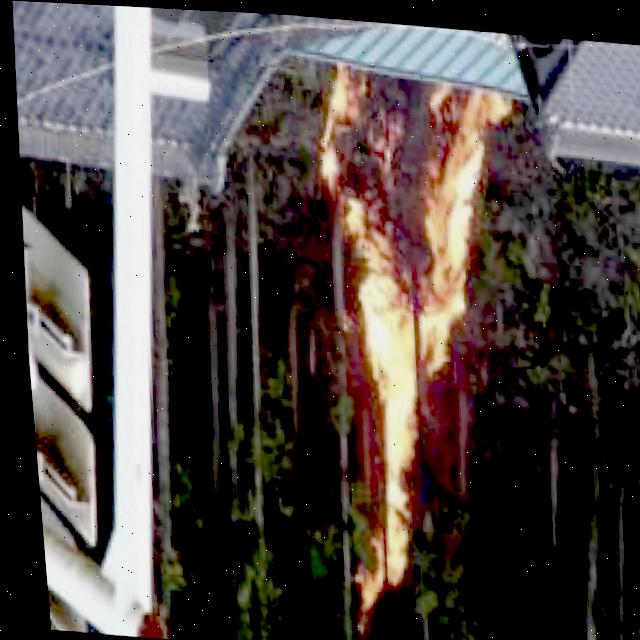Fire: (288, 55, 530, 614)
